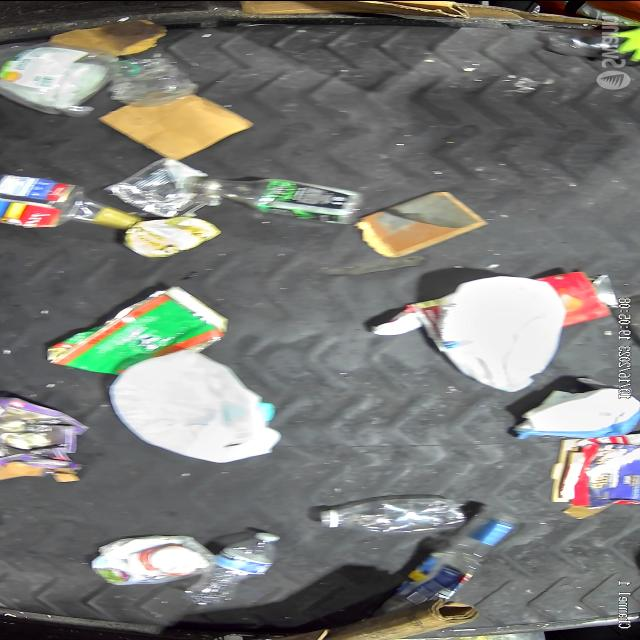can: (102, 154, 220, 218), (118, 214, 222, 258)
milk_jug: (106, 349, 284, 463), (436, 274, 564, 392)
non_white_jug: (0, 42, 124, 112)
plastic_bottle: (376, 508, 524, 614), (188, 174, 368, 224), (180, 530, 286, 605), (314, 494, 467, 532)
